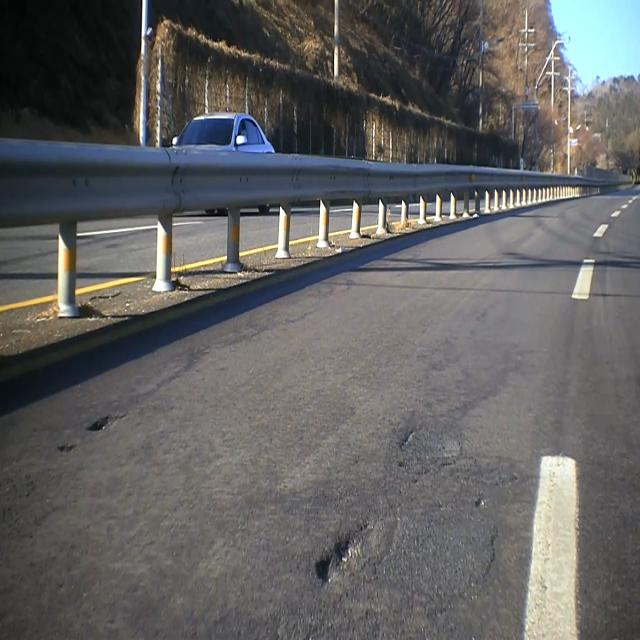Pothole: (310, 526, 370, 596), (81, 404, 130, 440), (54, 430, 78, 460)
